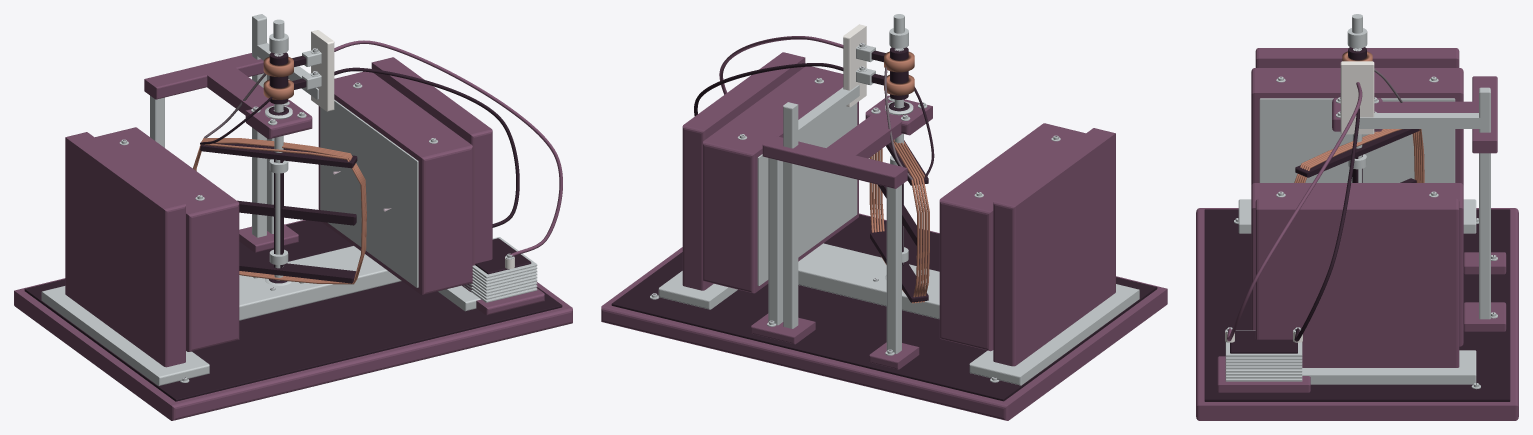
The model's file is generator.glb.
3 views of the same model, side by side, from view 1: azimuth 30°, elevation 25°; view 2: azimuth 150°, elevation 25°; view 3: azimuth 270°, elevation 25° (orthographic).
Parts seen in each view (by area): view 1: Field yoke, Bench, South pole, North pole, Rotor winding, Bearings, Resistive load, Carbon brushes, Drive shaft, Two slip rings; view 2: Field yoke, Bench, South pole, Bearings, North pole, Carbon brushes, Rotor winding, Resistive load, Two slip rings, Drive shaft; view 3: Field yoke, Bench, North pole, Resistive load, Bearings, Carbon brushes, South pole, Rotor winding, Drive shaft, Two slip rings.
Part boxes in pixels (x1=…): Field yoke: x1=41, y1=57, x2=492, y2=385; Bench: x1=14, y1=220, x2=572, y2=420; South pole: x1=318, y1=71, x2=472, y2=294; North pole: x1=95, y1=127, x2=239, y2=351; Rotor winding: x1=193, y1=73, x2=366, y2=284; Bearings: x1=144, y1=53, x2=312, y2=290; Resistive load: x1=334, y1=40, x2=562, y2=315; Carbon brushes: x1=239, y1=14, x2=334, y2=252; Drive shaft: x1=269, y1=19, x2=288, y2=280; Two slip rings: x1=263, y1=52, x2=293, y2=104; Field yoke: x1=658, y1=52, x2=1139, y2=385; Bench: x1=601, y1=213, x2=1167, y2=420; South pole: x1=703, y1=66, x2=858, y2=293; Bearings: x1=751, y1=95, x2=932, y2=369; North pole: x1=939, y1=123, x2=1085, y2=351; Carbon brushes: x1=766, y1=24, x2=885, y2=344; Rotor winding: x1=869, y1=66, x2=934, y2=303; Resistive load: x1=694, y1=36, x2=843, y2=116; Two slip rings: x1=884, y1=47, x2=914, y2=99; Drive shaft: x1=889, y1=14, x2=908, y2=264; Field yoke: x1=1238, y1=48, x2=1476, y2=384; Bench: x1=1196, y1=208, x2=1518, y2=420; North pole: x1=1251, y1=68, x2=1463, y2=185; Resistive load: x1=1217, y1=82, x2=1362, y2=392; Bearings: x1=1332, y1=76, x2=1506, y2=331; Carbon brushes: x1=1340, y1=61, x2=1506, y2=317; South pole: x1=1251, y1=183, x2=1463, y2=346; Rotor winding: x1=1294, y1=69, x2=1424, y2=182; Drive shaft: x1=1347, y1=14, x2=1367, y2=182; Two slip rings: x1=1342, y1=47, x2=1372, y2=61.
Bounding box in the file's own units: 0.569 × 0.398 × 0.38.
